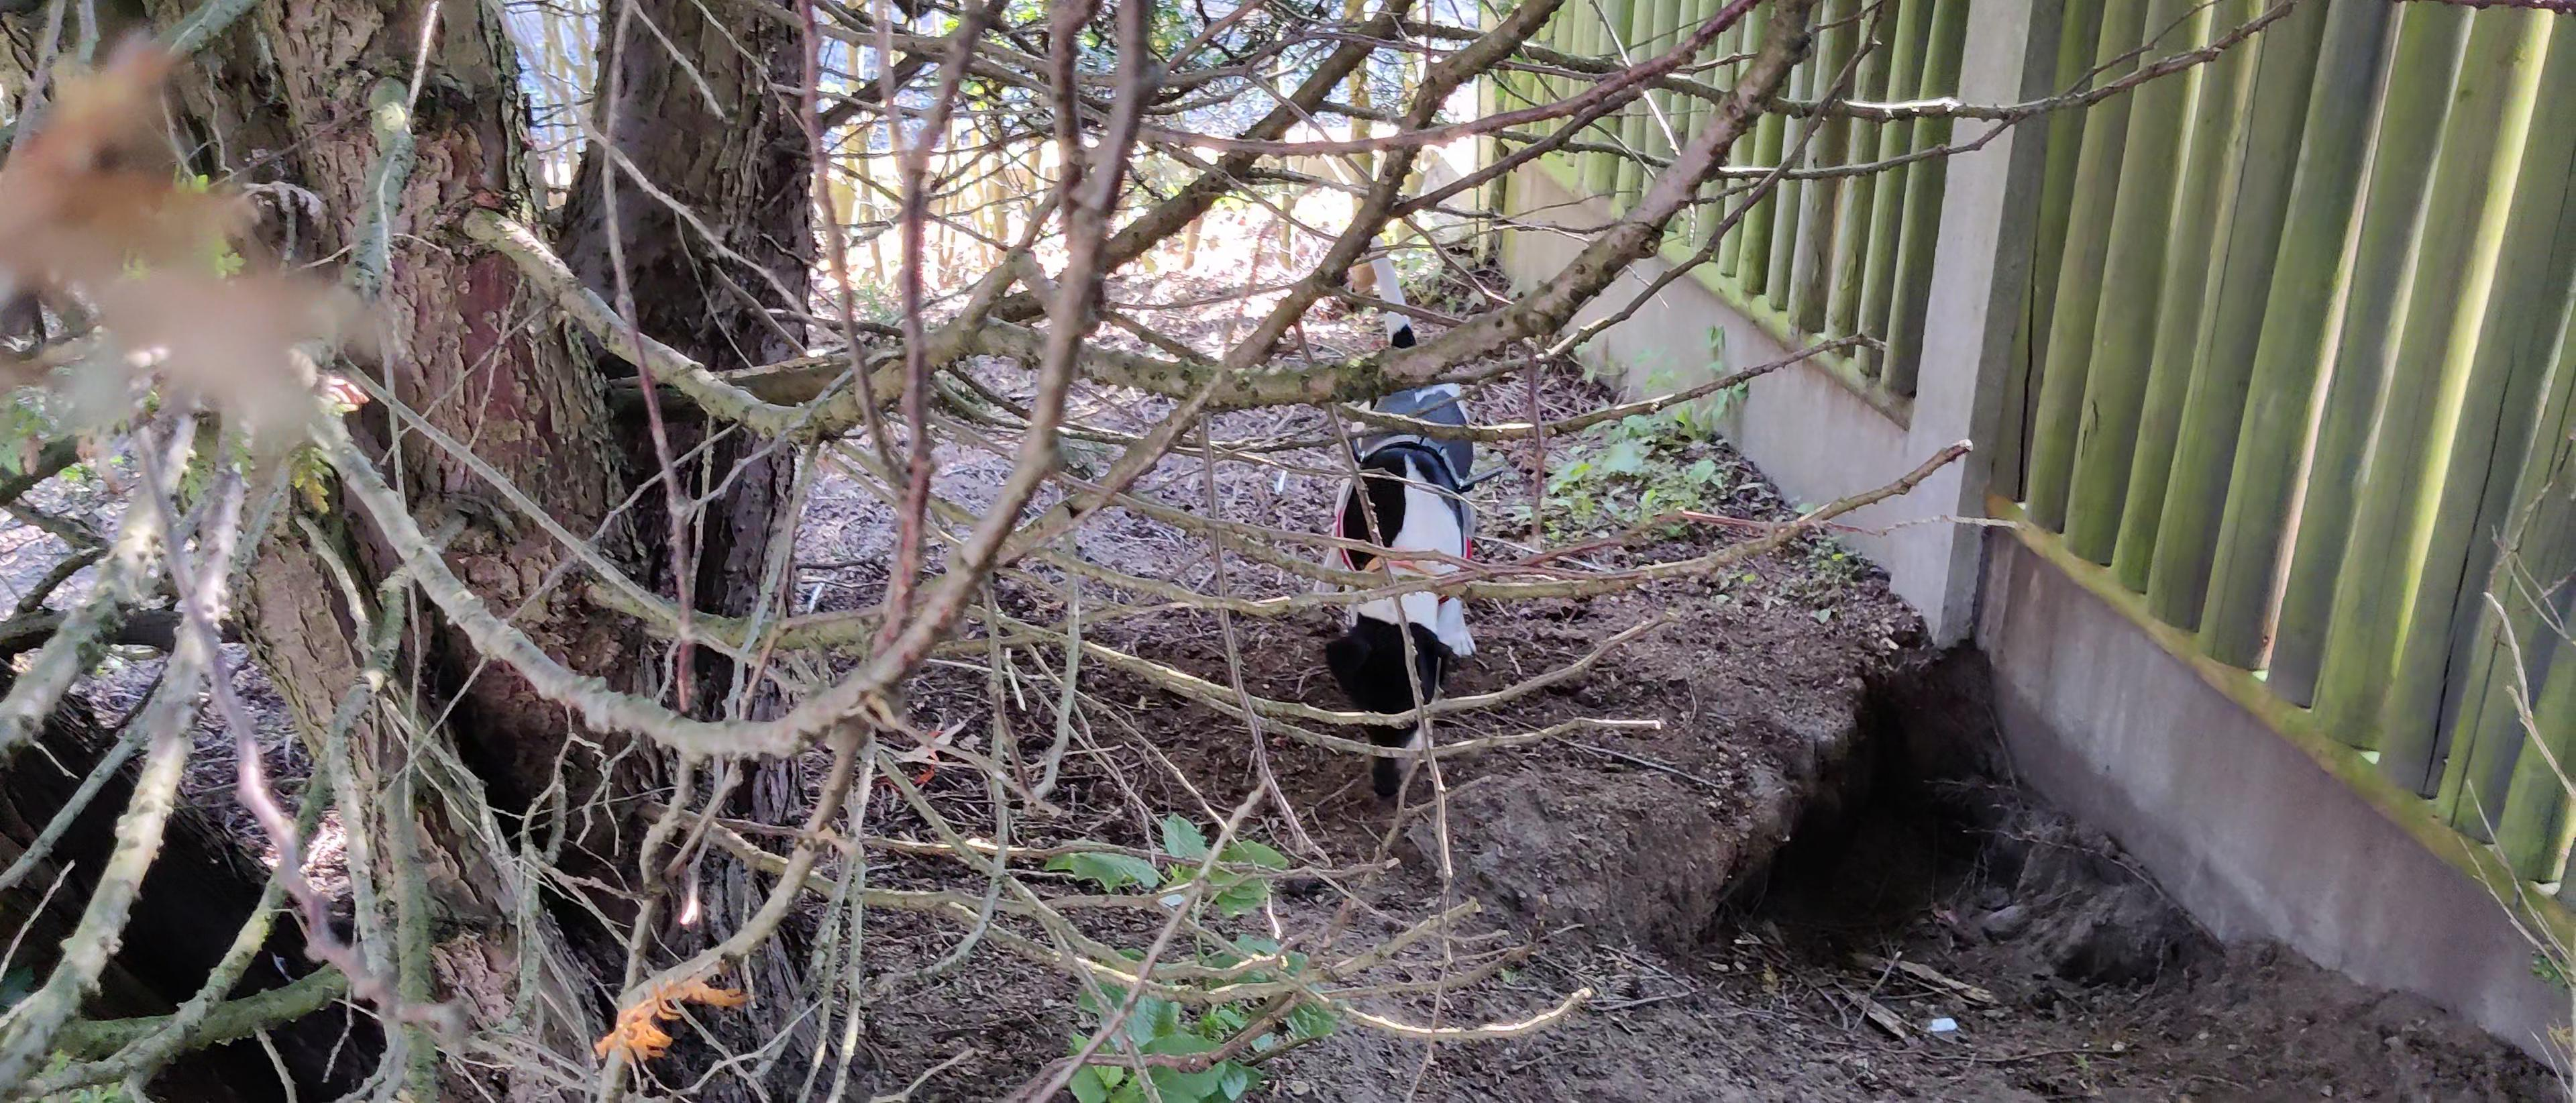Dog: (1298, 210, 1495, 809)
